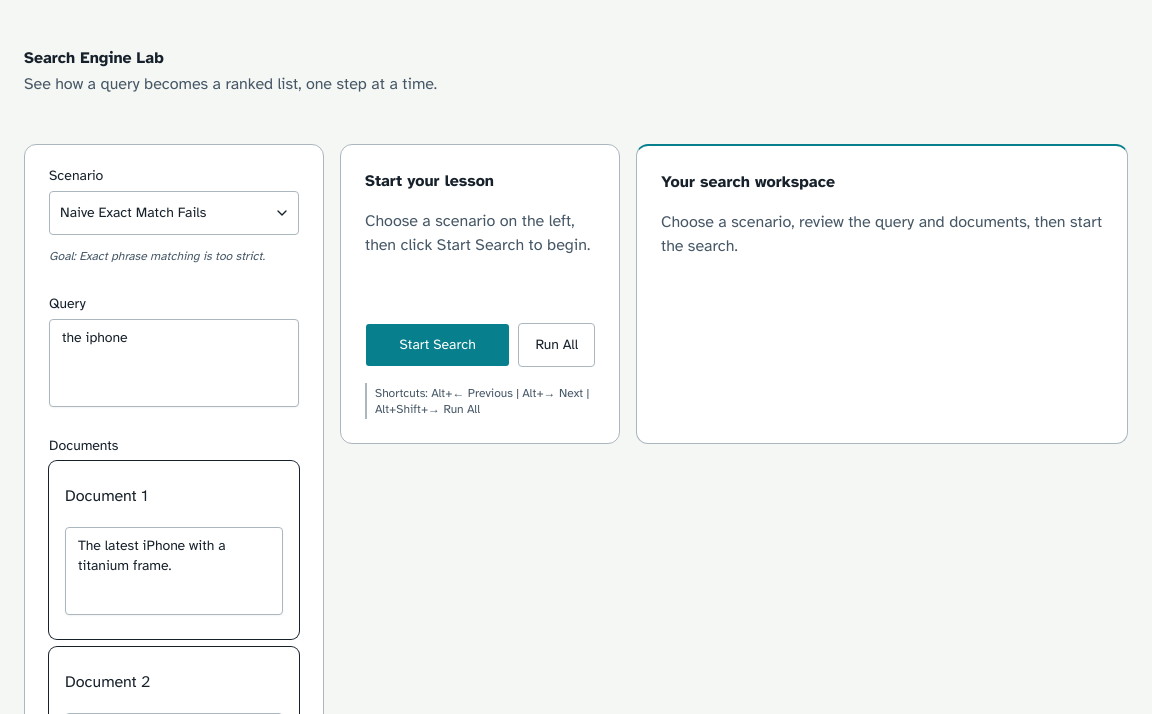
Test case: Reset Scenario Flow › immediate reset to setup for clean scenario, no dialog shown
expect the heading "Your search workspace" is shown: met, box [661,172,835,192]
Click Start Search to move to step 1 (Tokenization)
Click the button "Start Search" at x=438, y=345, box [365,323,510,367]
(page scrolled)
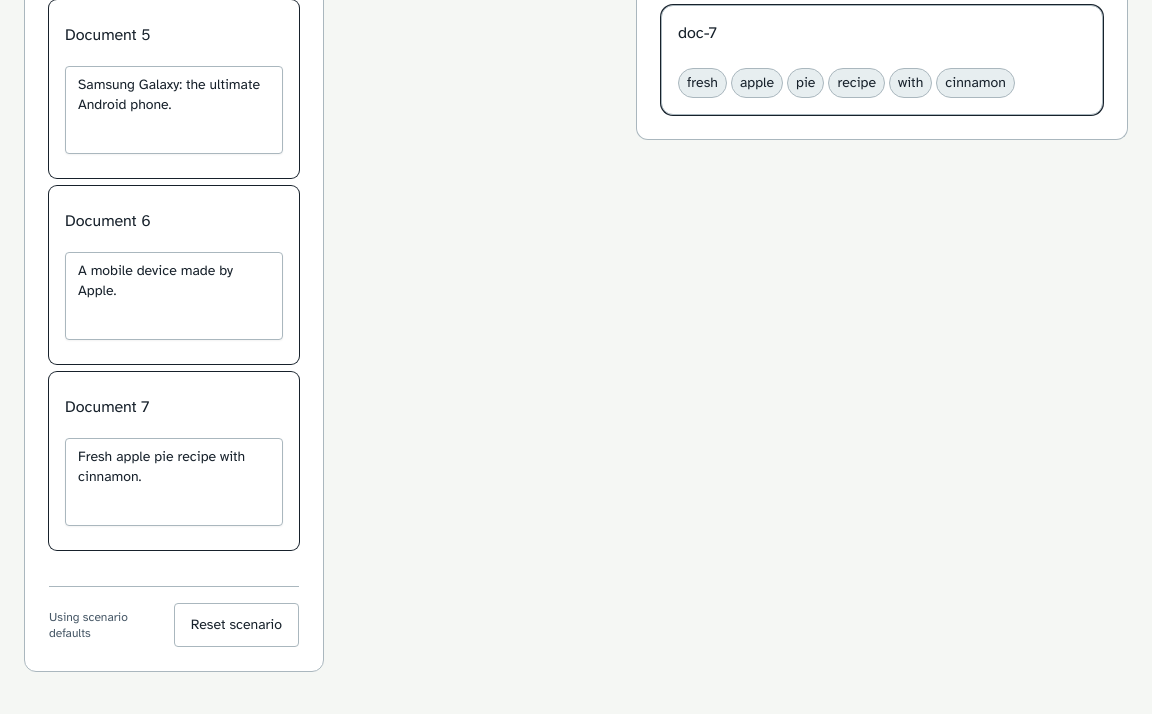
Click Reset Scenario button while scenario is clean
Click the button "Reset scenario" at x=236, y=625, box [174,603,299,647]
(page scrolled)
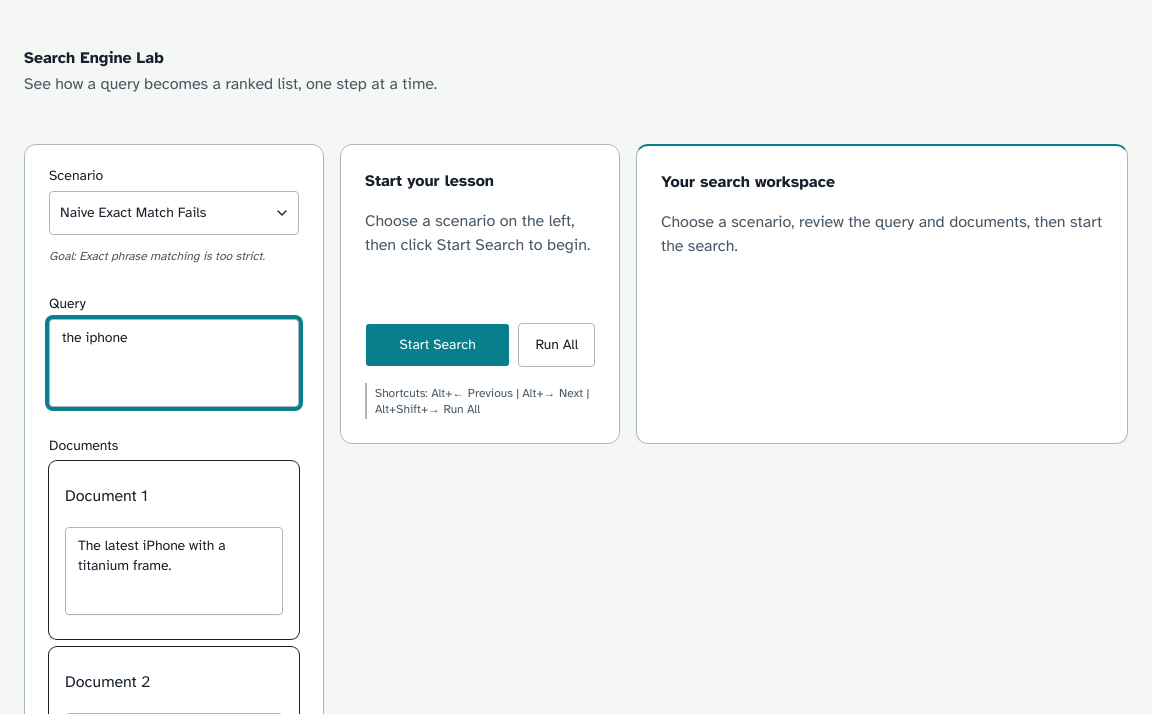
expect the heading "Your search workspace" is shown: met, box [661,172,835,192]
